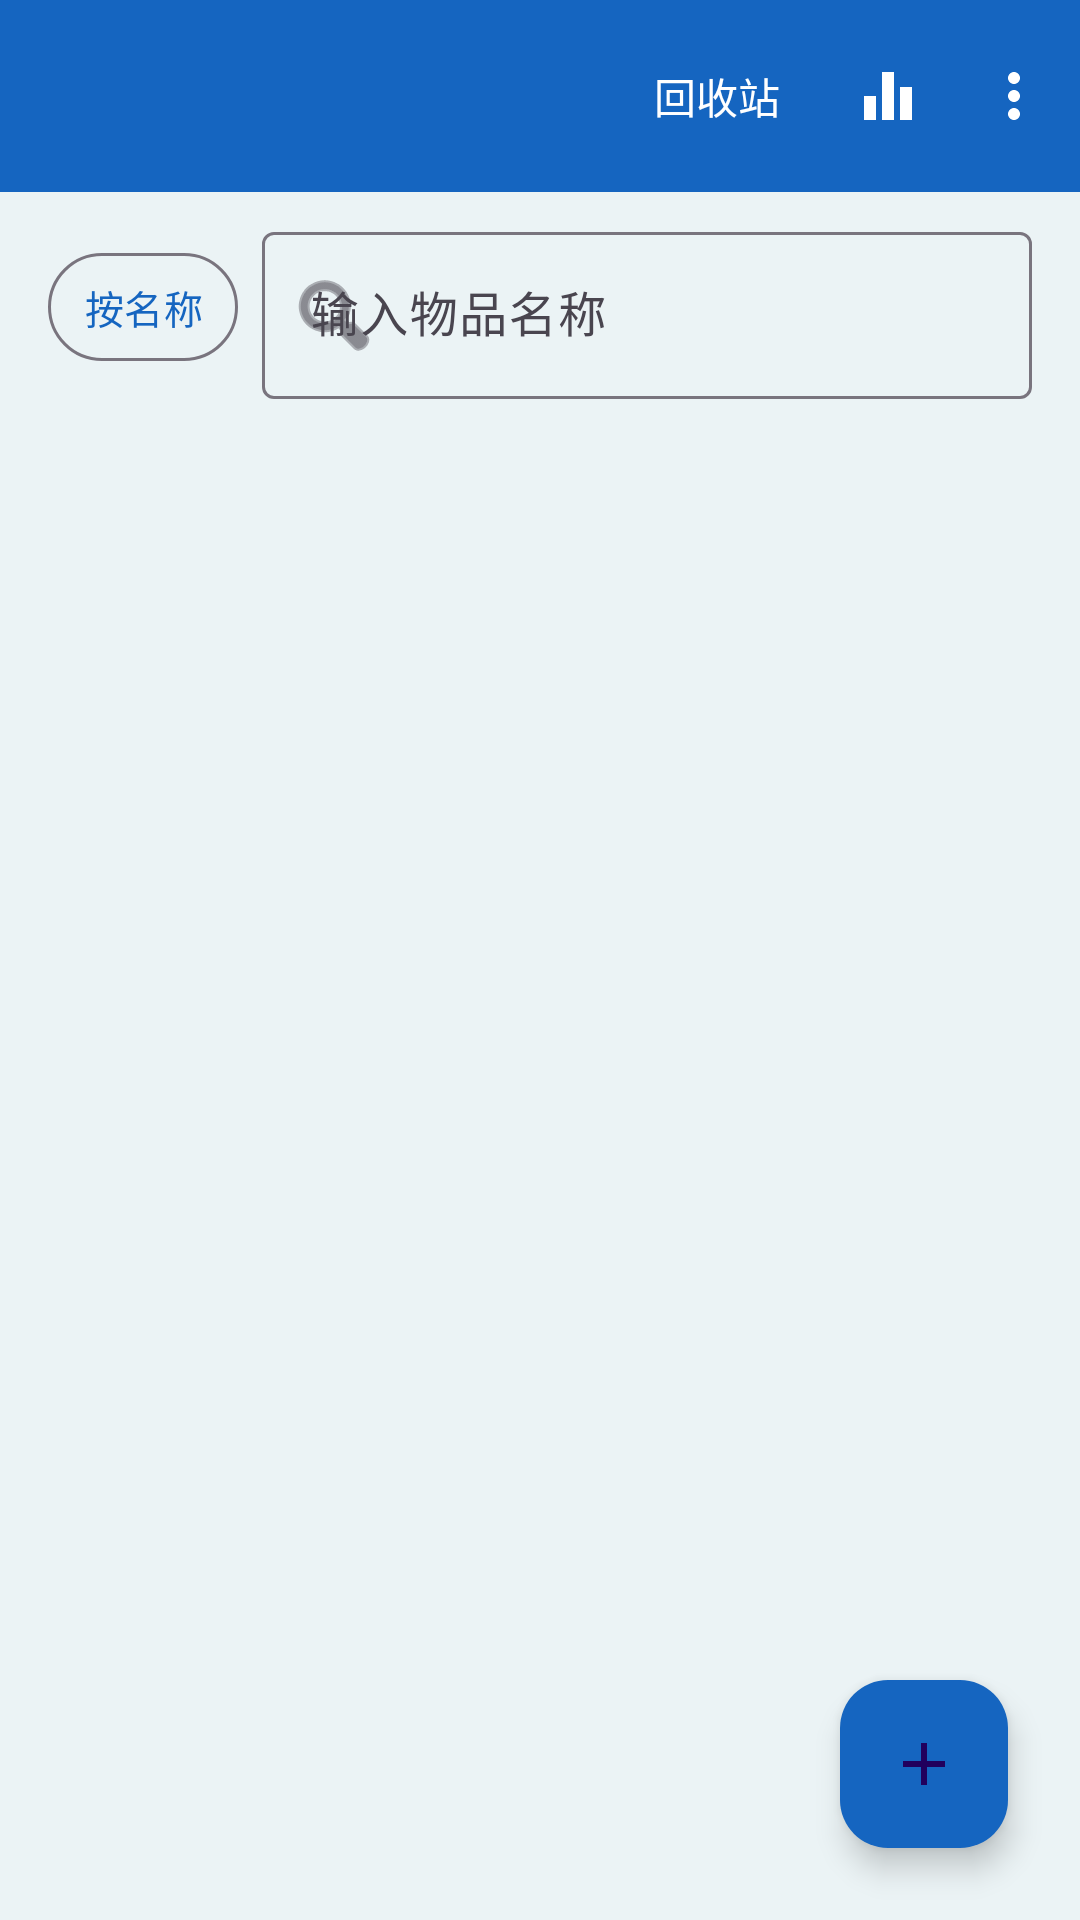

Where to tap for icons on this 1080 × 1920 app screen, as point (x, y):
添加物品: point (924, 1764)
